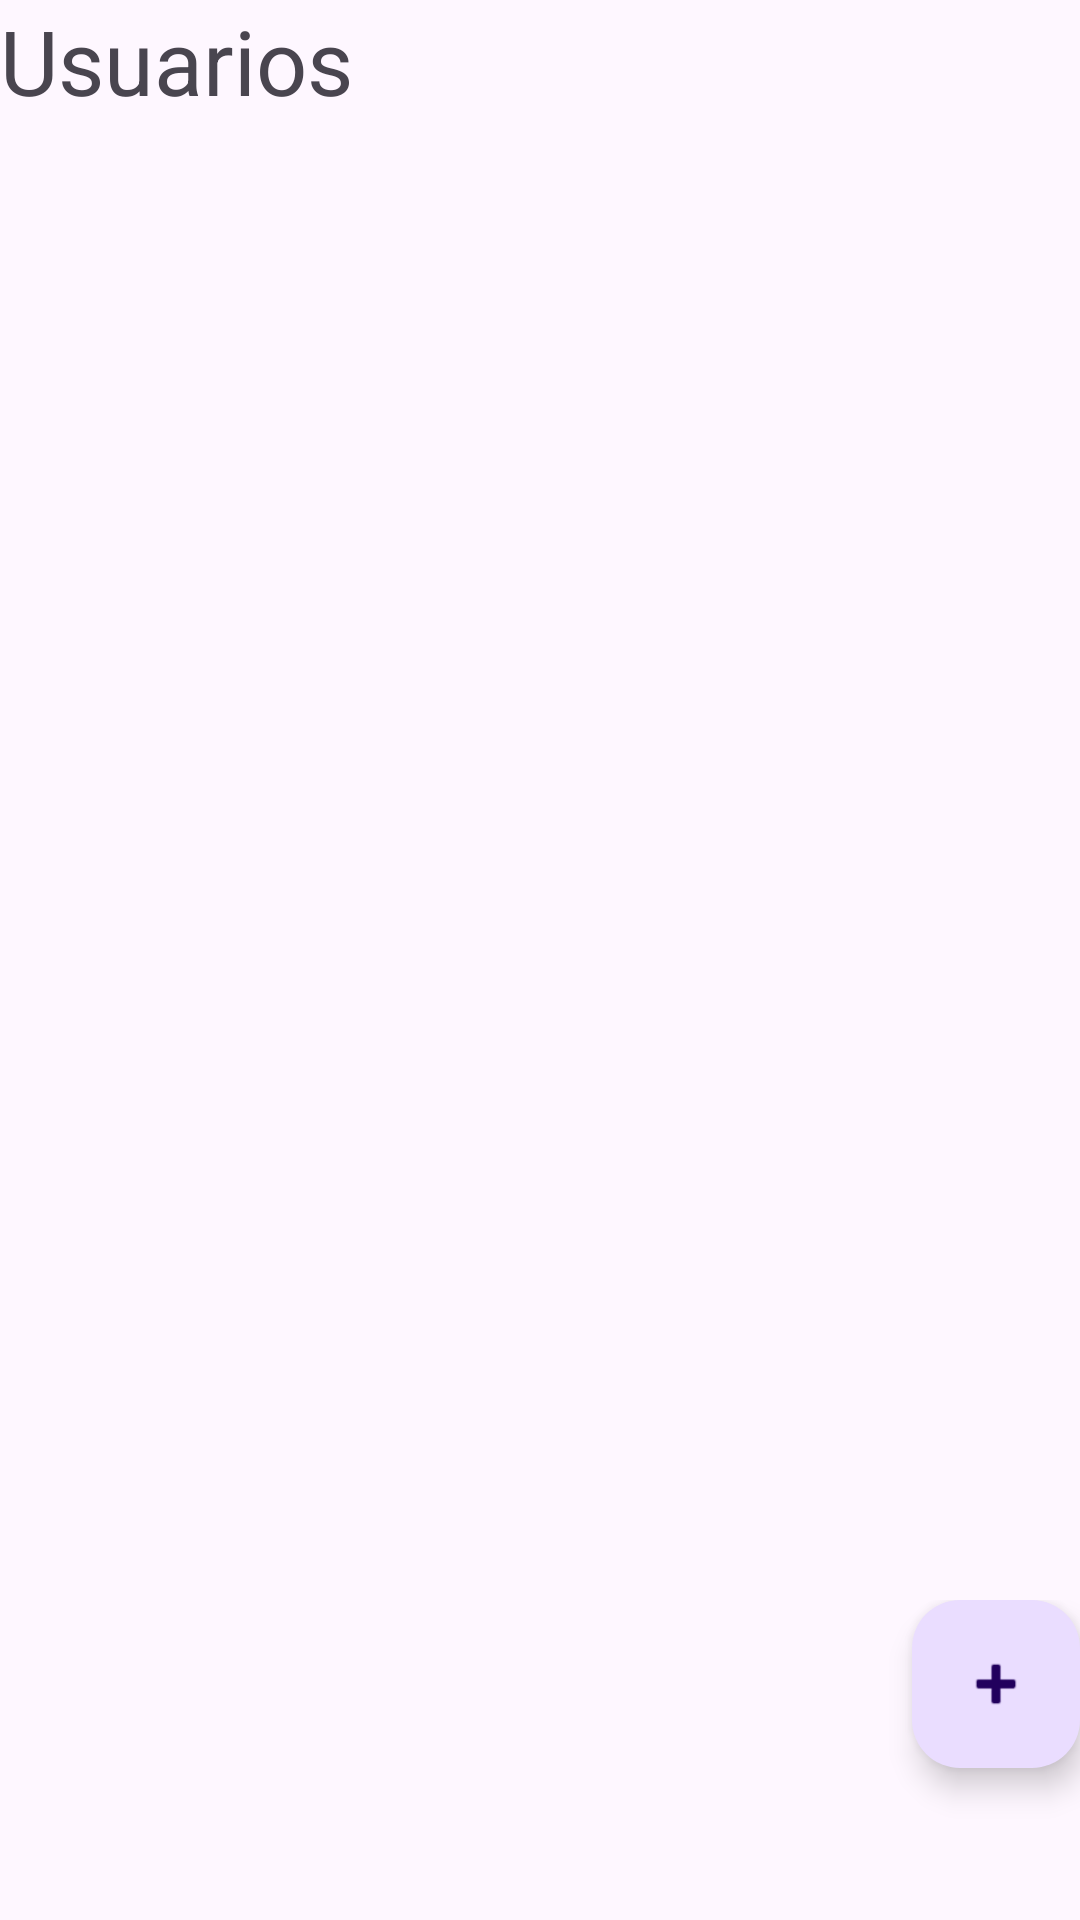

Where icons sit on this 1080w x 1920h app screen, as {"x1": x1, "y1": y1, "x2": x2, "y2": y2}:
add: {"x1": 912, "y1": 1600, "x2": 1080, "y2": 1768}
